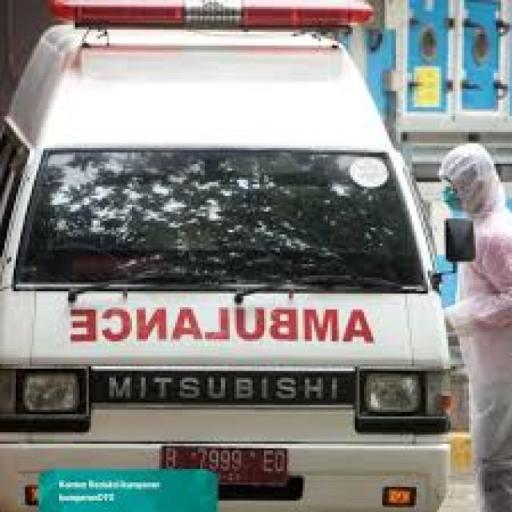Police car: (2, 2, 448, 508)
